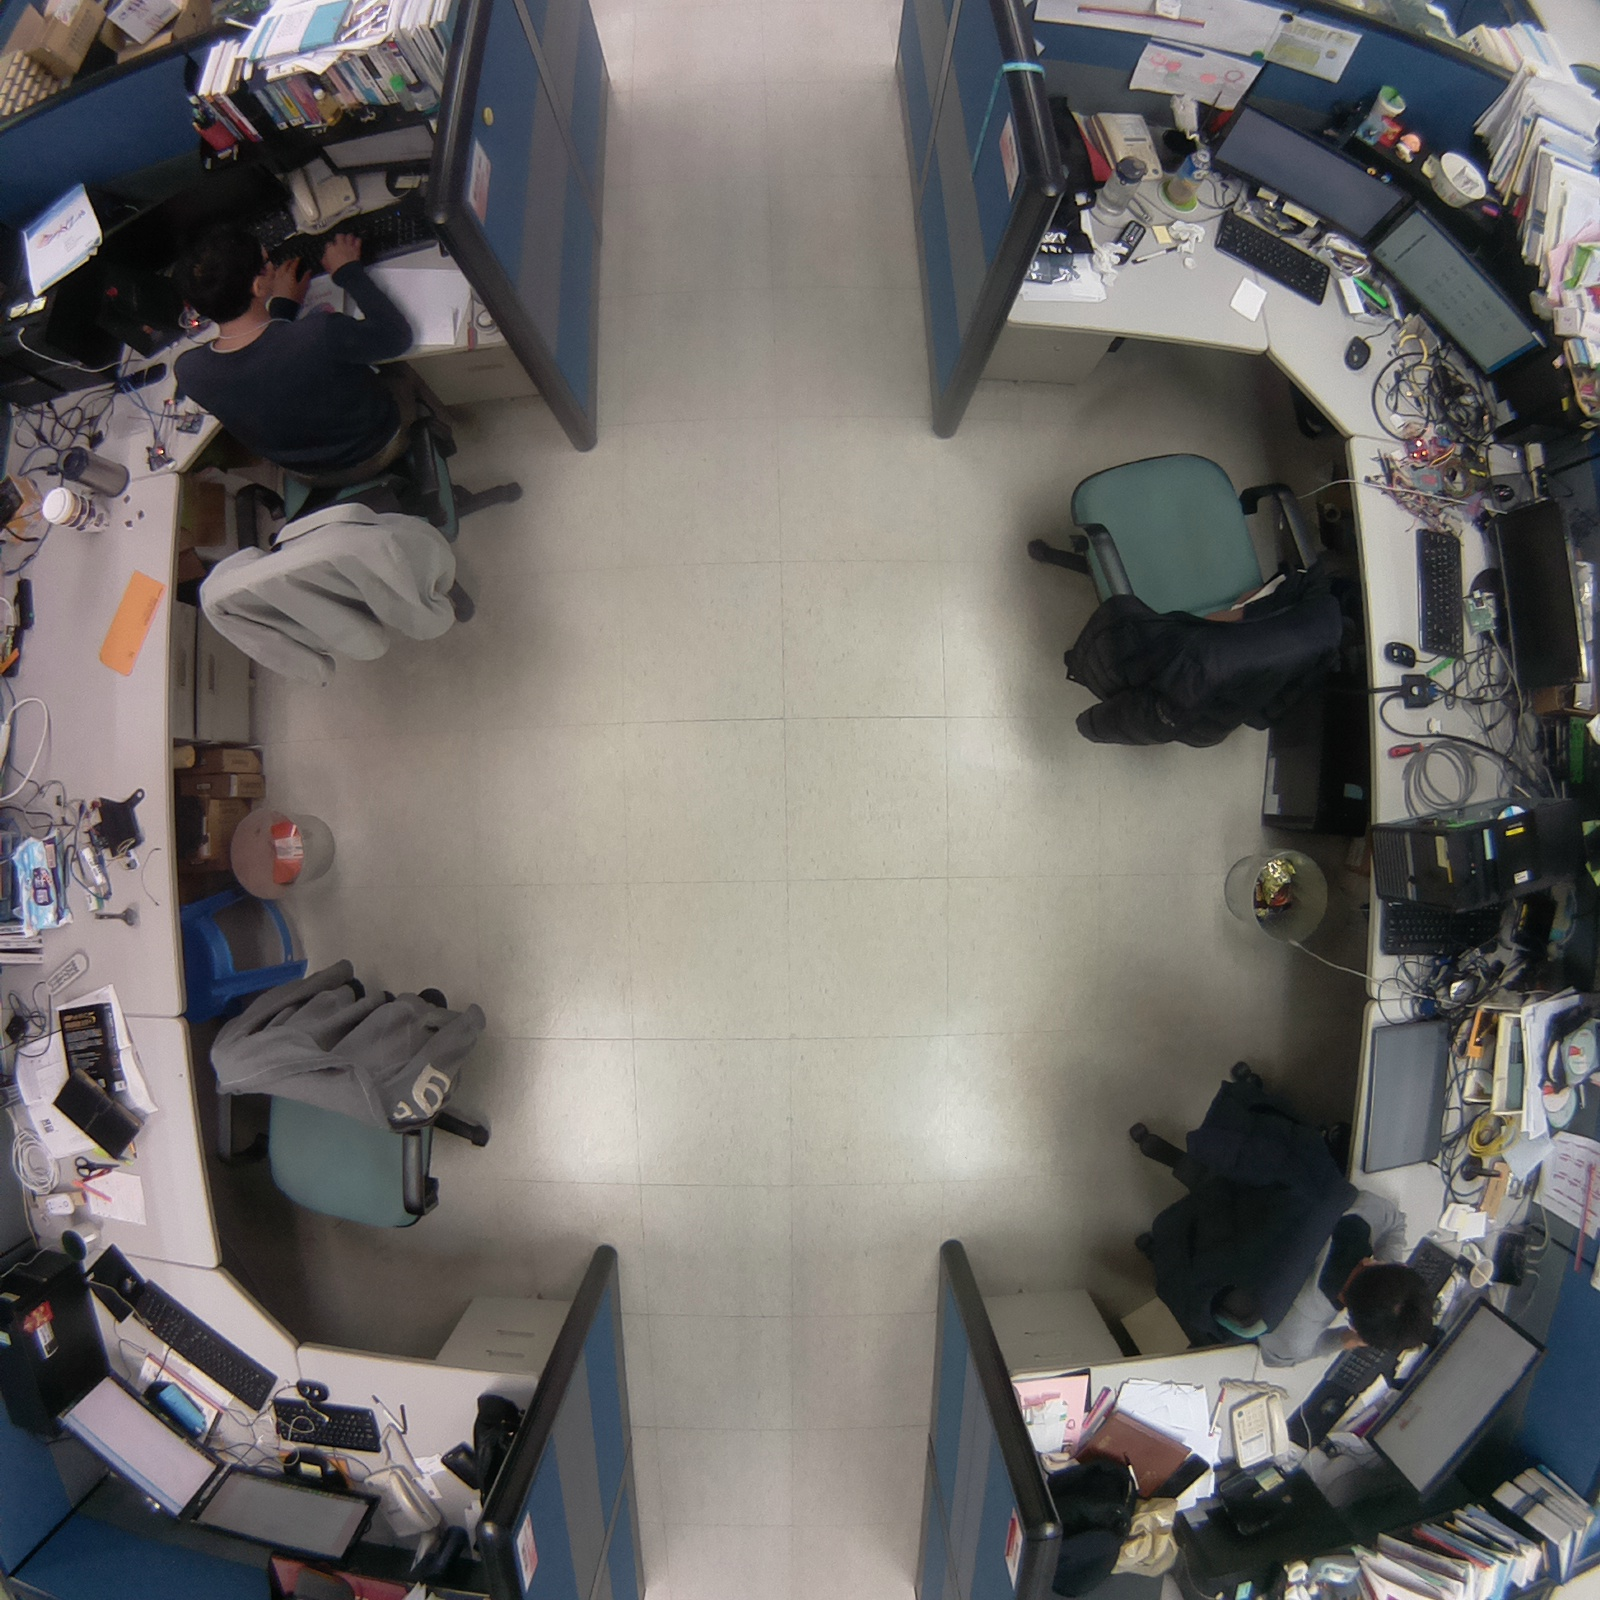chair: (1008, 434, 1385, 771), (192, 949, 522, 1244)
sitting: (149, 196, 535, 709), (1100, 1036, 1470, 1390)
